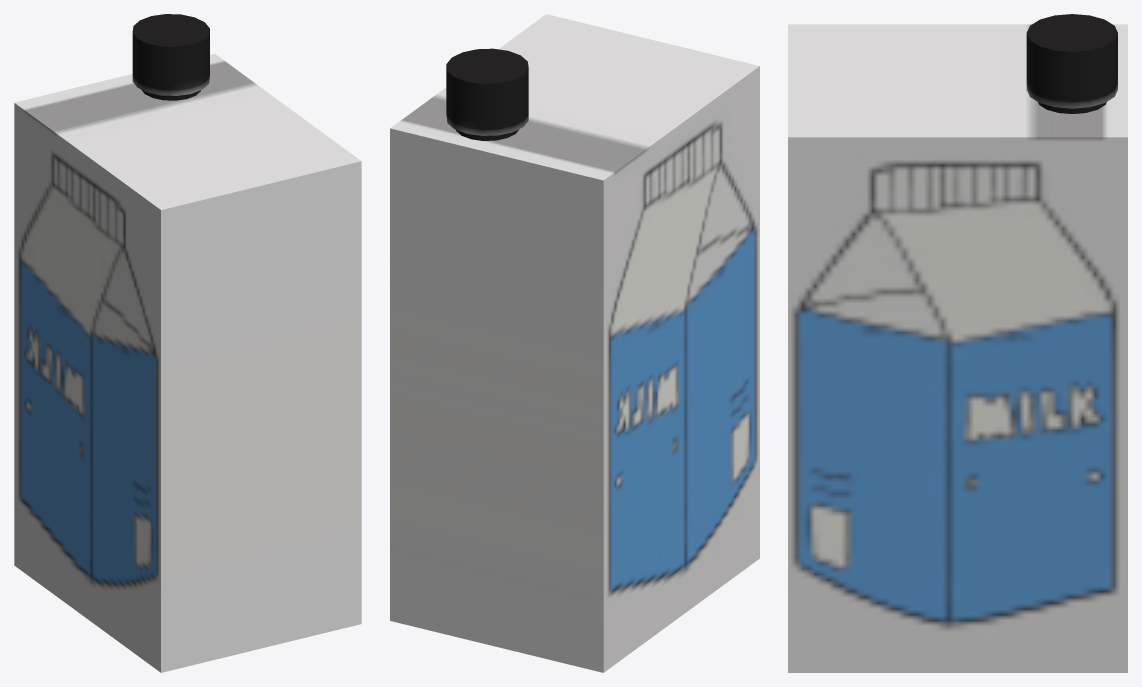
File: milk pack.fbx
The picture shows the model from 3 angles, left to right: view 1: azimuth 30°, elevation 25°; view 2: azimuth 150°, elevation 25°; view 3: azimuth 270°, elevation 25°; orthographic projection. The views are drawn at different scales.
Visible parts, largest first — view 1: milk, milk.002; view 2: milk, milk.002; view 3: milk, milk.002.
Part boxes in pixels (x1,y1,x2,y2): milk: (14,53,361,672); milk.002: (132,14,209,95); milk: (390,14,759,672); milk.002: (446,48,528,135); milk: (788,24,1127,672); milk.002: (1026,14,1117,108).
Bounding box in the file's own units: 0.0718 × 0.1778 × 0.091.
